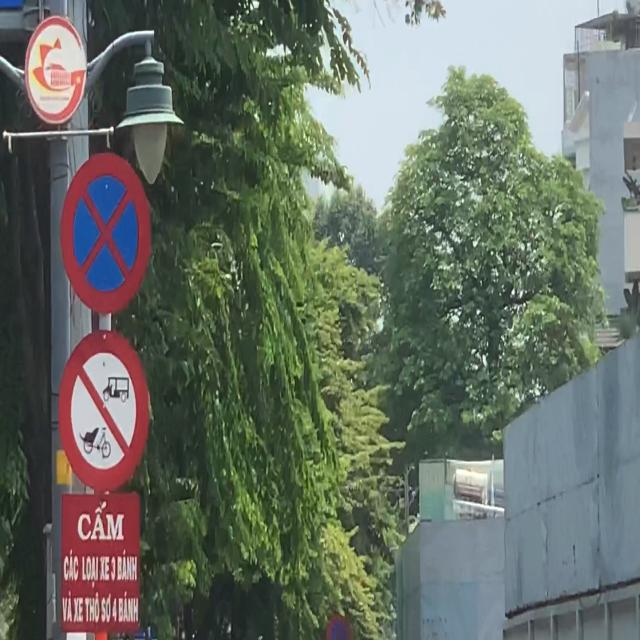Cam con lai: (56, 334, 150, 492)
Cam dung va do: (57, 149, 153, 318)
